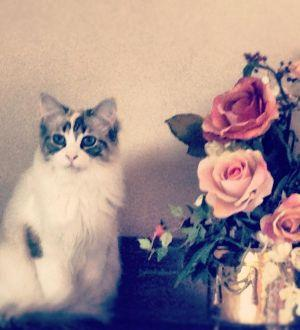ragdoll: (35, 88, 123, 185)
